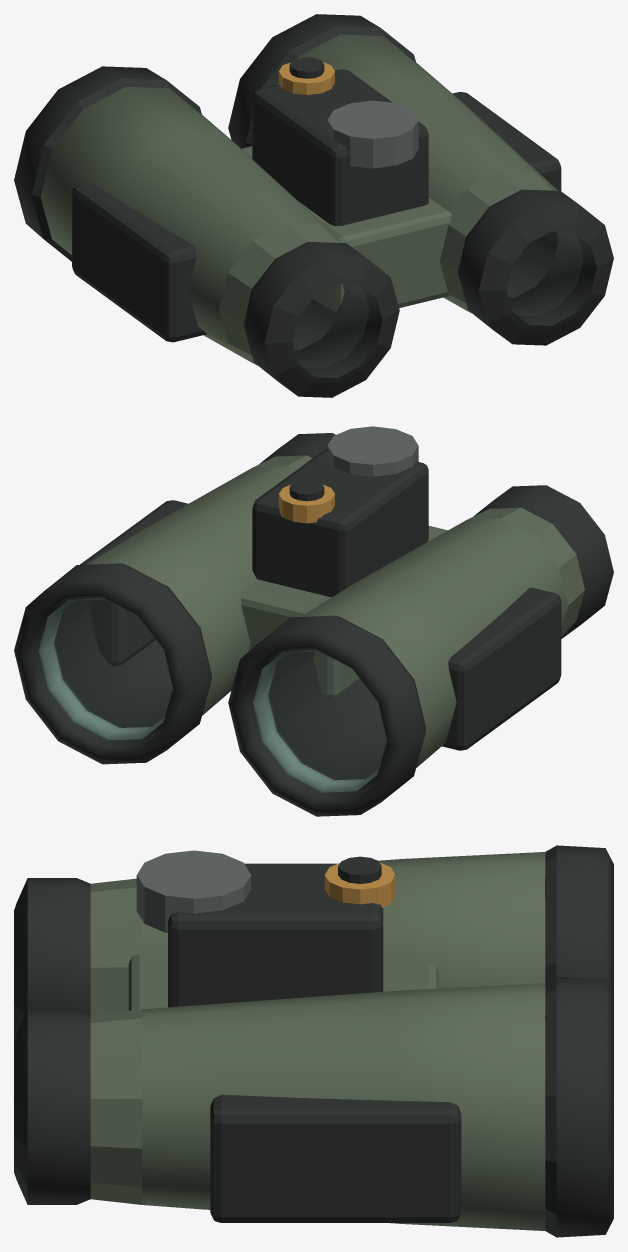
The model's file is binoculars-low.glb.
3 renders of one model, top to bottom at view 1: azimuth 30°, elevation 25°; view 2: azimuth 150°, elevation 25°; view 3: azimuth 270°, elevation 25°, orthographic. The views are drawn at different scales.
Visible parts, largest first — view 1: Binoculars; view 2: Binoculars; view 3: Binoculars.
Part boxes in pixels (x1=…): Binoculars: x1=14, y1=14, x2=613, y2=397; Binoculars: x1=14, y1=426, x2=613, y2=816; Binoculars: x1=14, y1=845, x2=613, y2=1237.
Bounding box in the file's own units: 0.2111 × 0.119 × 0.22.
